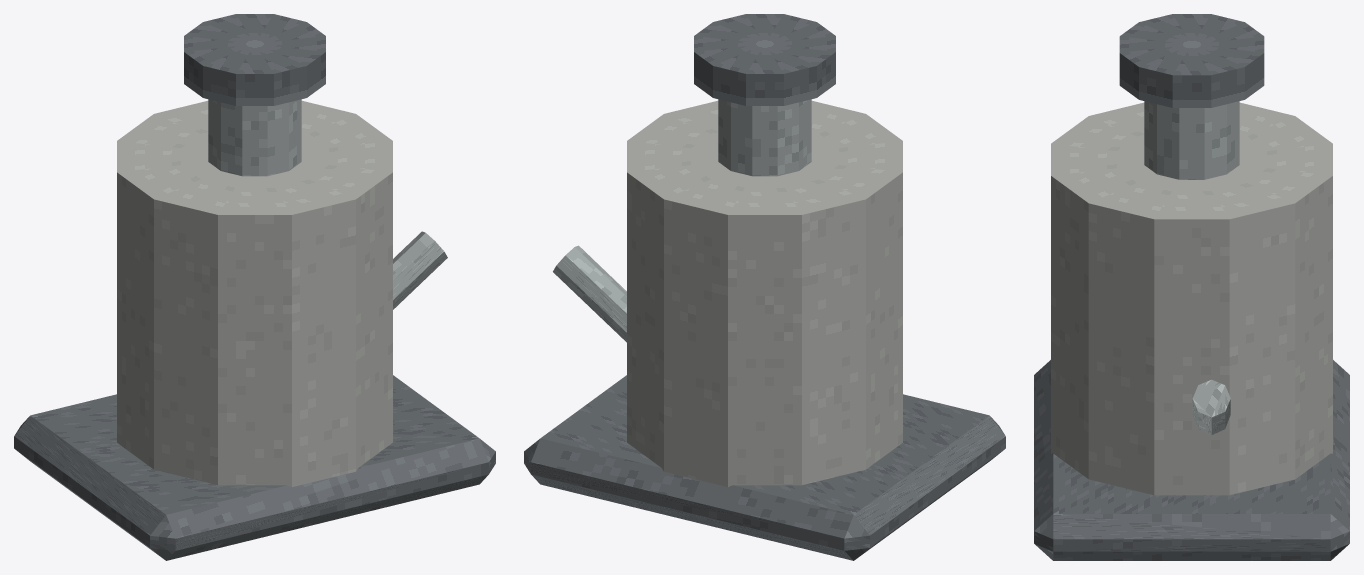
Rendered from jack.glb.
The picture shows the model from 3 angles, left to right: view 1: azimuth 30°, elevation 25°; view 2: azimuth 150°, elevation 25°; view 3: azimuth 270°, elevation 25°; orthographic projection. The views are drawn at different scales.
Parts seen in each view (by area): view 1: block_hydraulic body, block_jack base, block_support pad, block_lift piston, block_pump handle; view 2: block_hydraulic body, block_jack base, block_support pad, block_lift piston, block_pump handle; view 3: block_hydraulic body, block_jack base, block_support pad, block_lift piston, block_pump handle.
Boxes of the visible parts, x1=… form: block_hydraulic body: x1=117, y1=100, x2=392, y2=486; block_jack base: x1=14, y1=375, x2=495, y2=560; block_support pad: x1=184, y1=14, x2=325, y2=105; block_lift piston: x1=208, y1=99, x2=301, y2=176; block_pump handle: x1=393, y1=231, x2=447, y2=309; block_hydraulic body: x1=627, y1=100, x2=902, y2=486; block_jack base: x1=524, y1=375, x2=1005, y2=560; block_support pad: x1=694, y1=14, x2=835, y2=105; block_lift piston: x1=718, y1=99, x2=811, y2=176; block_pump handle: x1=553, y1=245, x2=626, y2=342; block_hydraulic body: x1=1051, y1=102, x2=1332, y2=495; block_jack base: x1=1034, y1=360, x2=1349, y2=560; block_support pad: x1=1119, y1=14, x2=1264, y2=107; block_lift piston: x1=1144, y1=101, x2=1239, y2=179; block_pump handle: x1=1192, y1=379, x2=1230, y2=435.
Bounding box in the file's own units: 0.2266 × 0.25 × 0.1633.
1 material, 1 textured.
